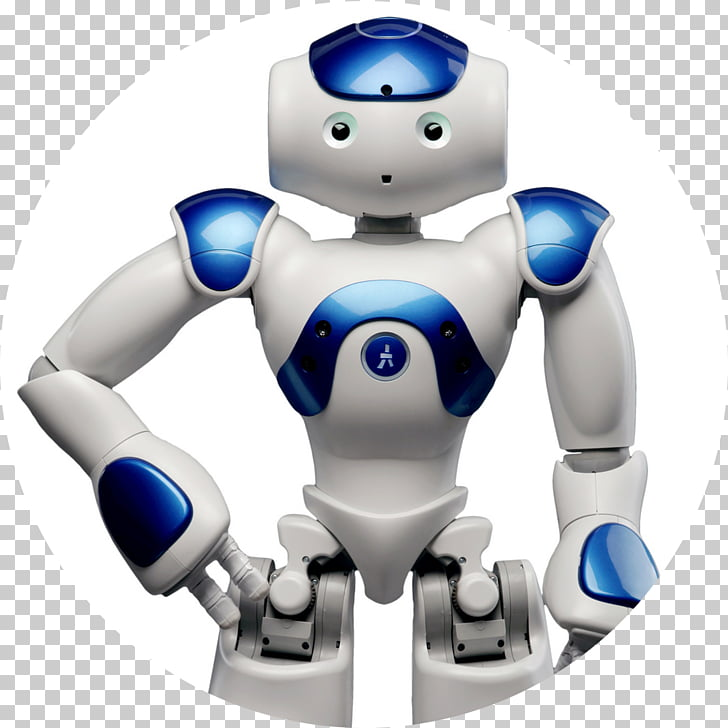nao: (18, 23, 728, 717)
